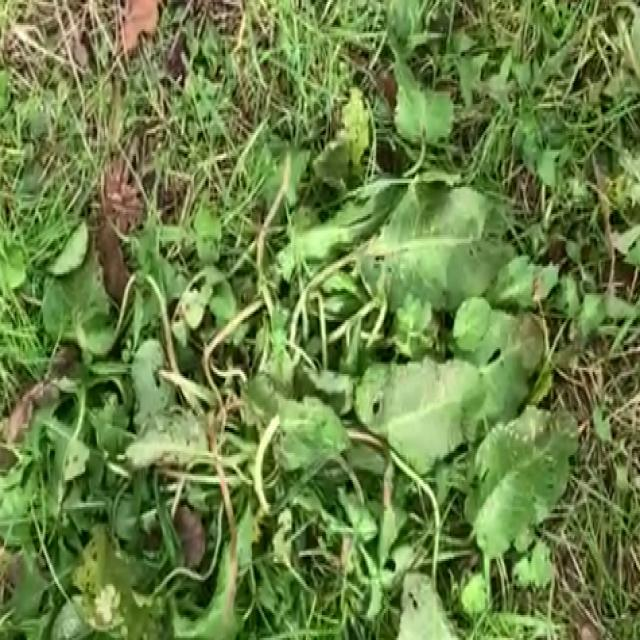organic waste: (35, 114, 582, 613)
